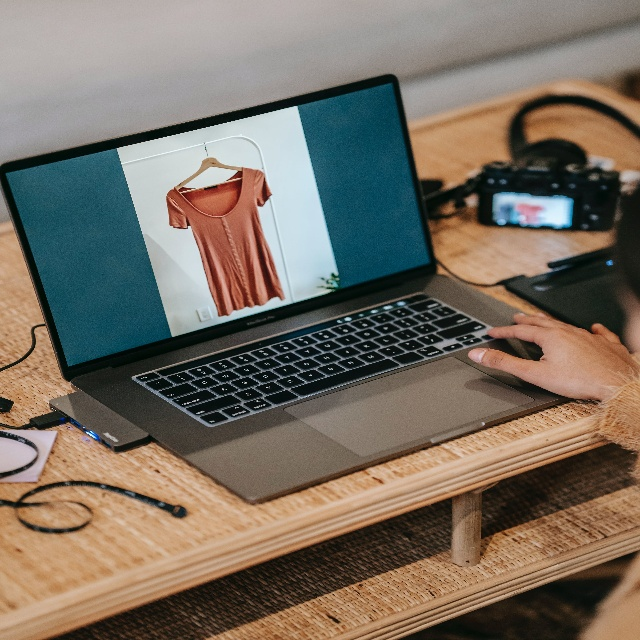Sin_guantes: (468, 308, 632, 399)
